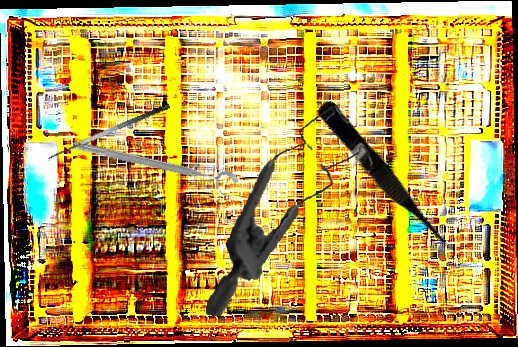Fixation Ring: (69, 136, 240, 200)
Micro Scissor: (310, 96, 459, 263)
Spatula Surgical: (45, 101, 175, 169)
Speculum: (205, 96, 378, 329)
